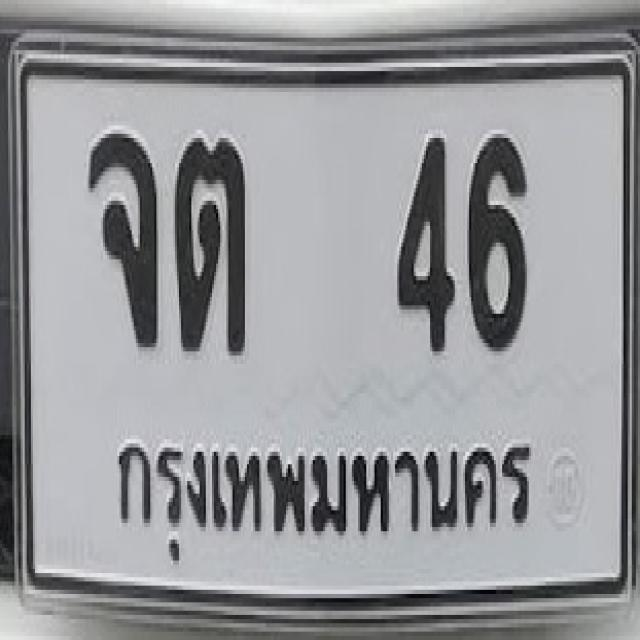license_plate: (9, 32, 640, 621)
